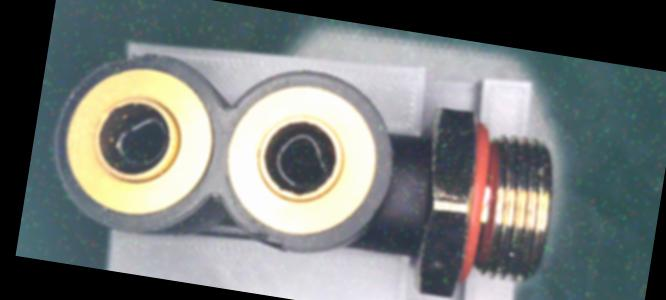bump: (240, 224, 295, 249), (114, 52, 158, 70)
joint line: (390, 185, 430, 198)
off-centered: (267, 127, 336, 195), (107, 112, 174, 174)
white mark: (403, 171, 422, 187)
